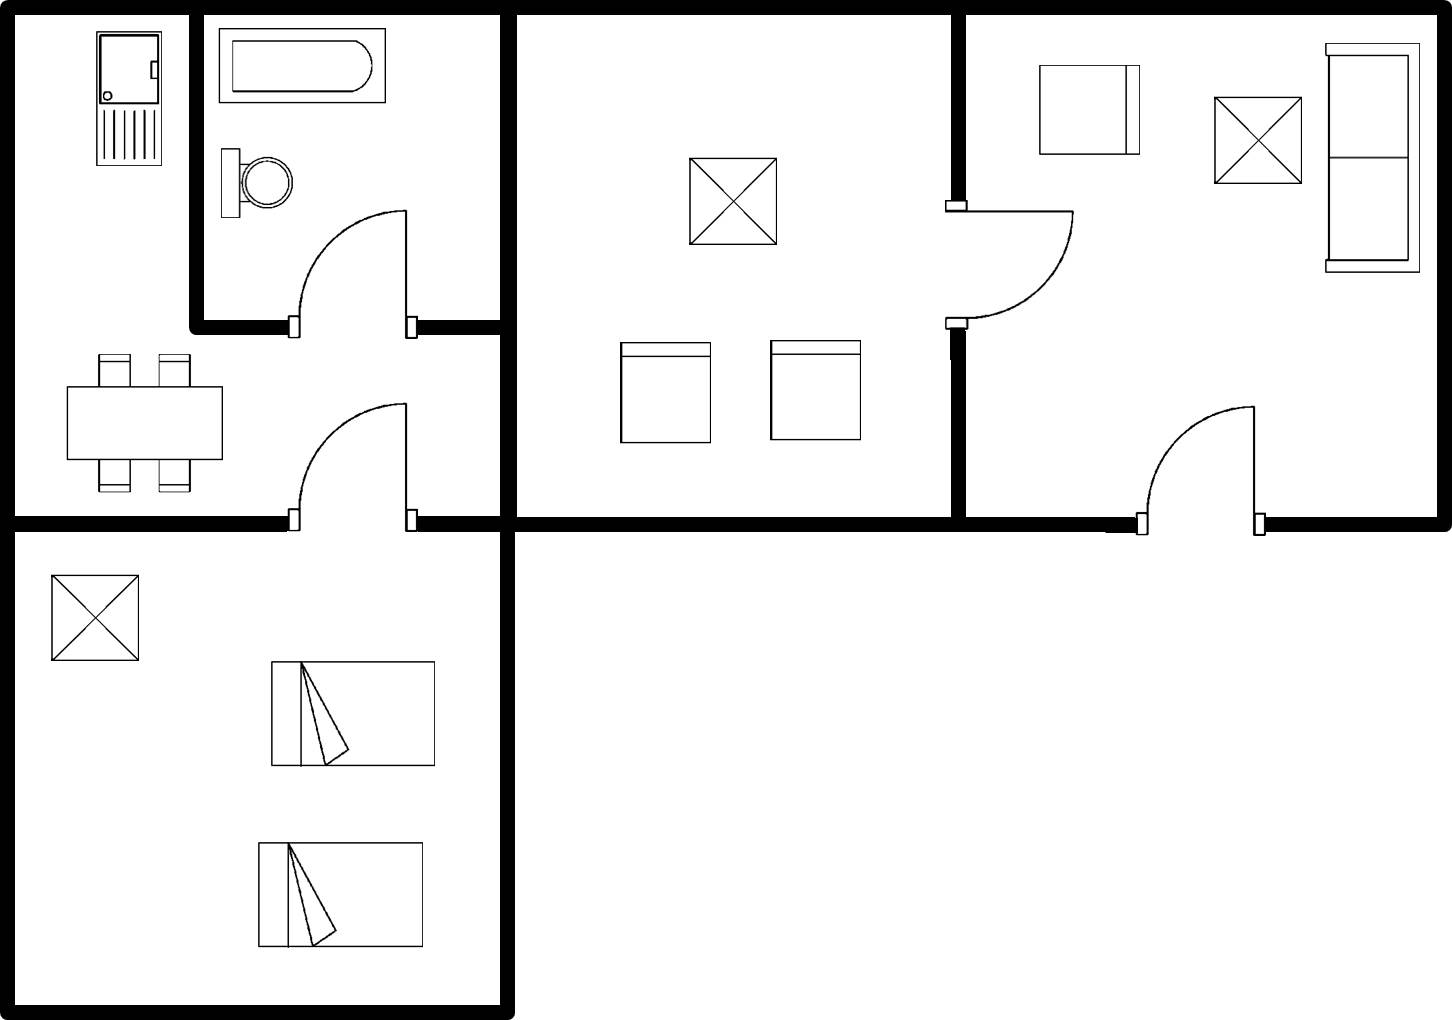bed: (263, 653, 445, 776), (249, 833, 429, 957)
coffee_table: (683, 150, 787, 254), (44, 567, 149, 670), (1206, 90, 1310, 191)
dining_table: (57, 346, 239, 503)
large_sink: (212, 137, 299, 227)
large_sofa: (1319, 35, 1432, 281)
sink: (88, 23, 170, 177)
small_sofa: (1029, 55, 1149, 165), (763, 332, 873, 448), (613, 333, 718, 451)
tub: (213, 23, 397, 114)
